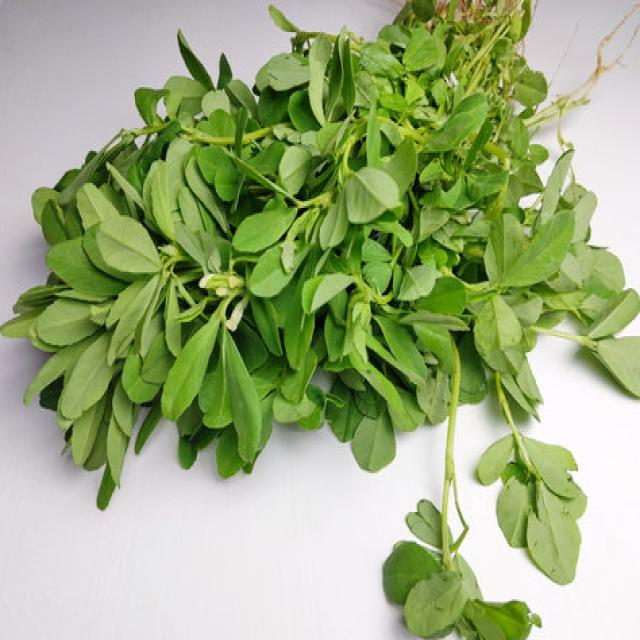Fenugreek: (36, 28, 610, 440)
